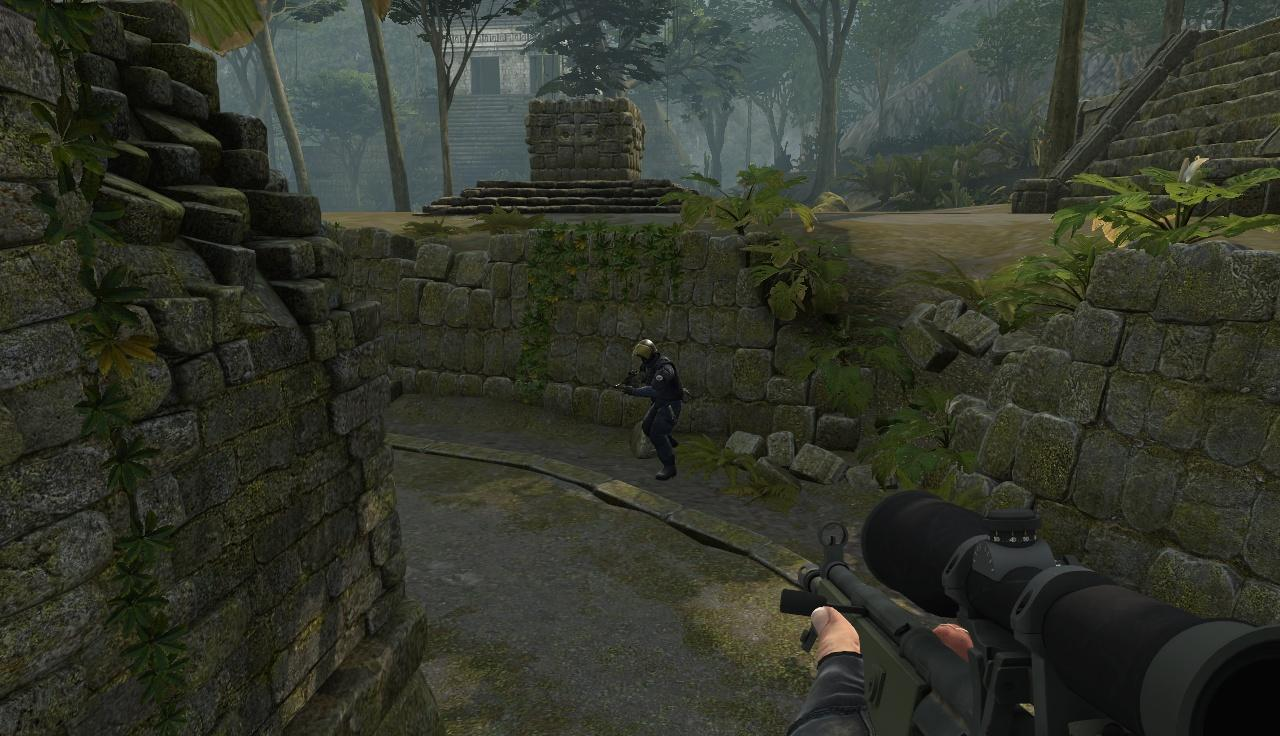ct: (633, 340, 689, 481)
cthead: (634, 342, 659, 366)
rifle: (806, 495, 1280, 736)
